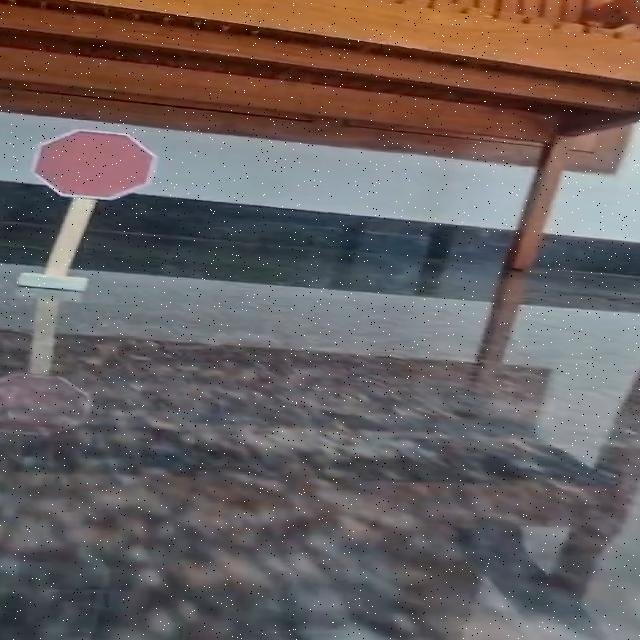Stop: (11, 123, 172, 209)
